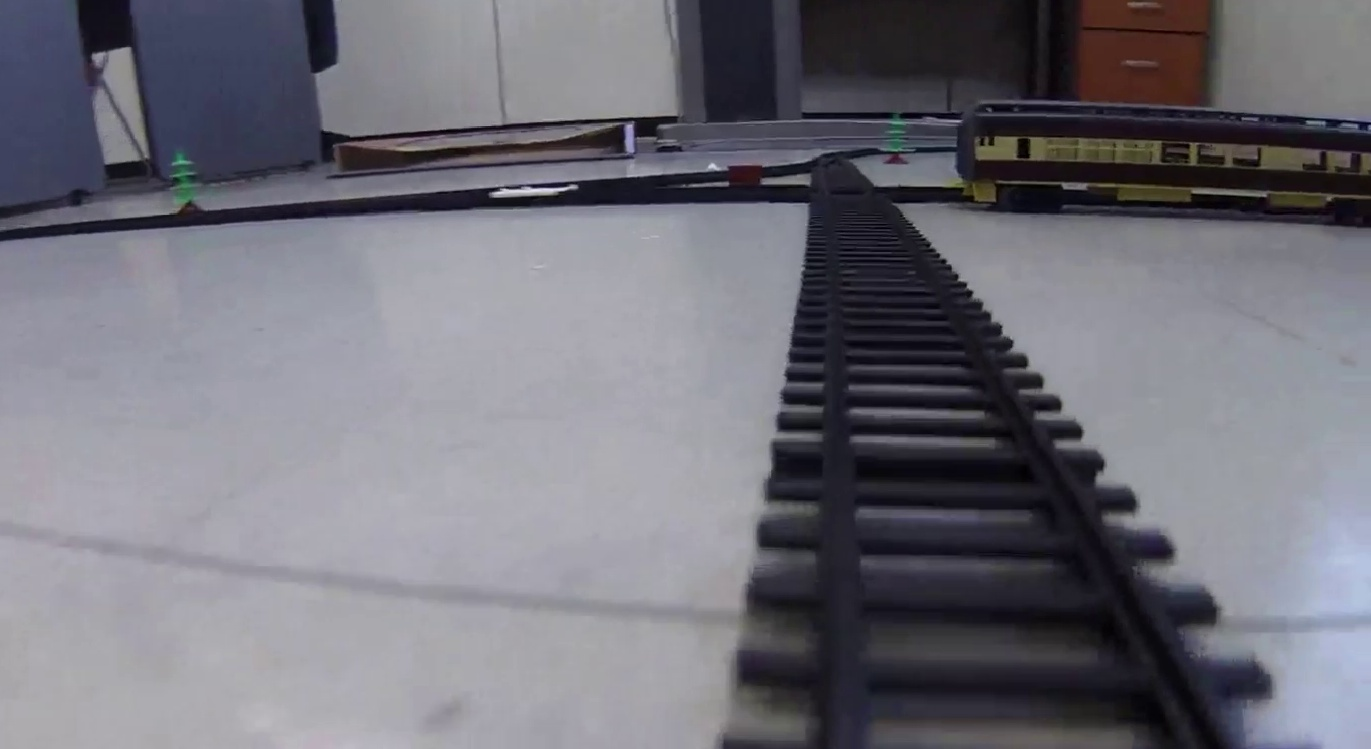tree: (161, 148, 203, 210)
